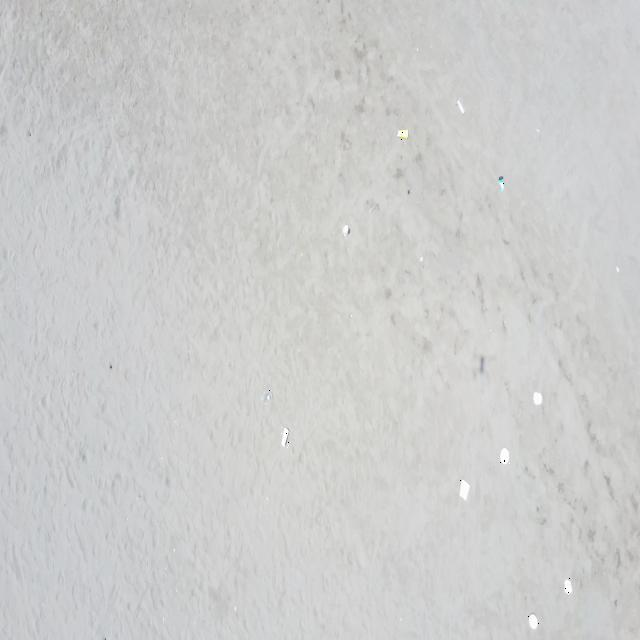take-away-containers: (458, 480, 471, 500), (528, 611, 539, 630), (500, 446, 510, 466), (533, 392, 543, 408), (564, 578, 572, 596)
takeaway-cup: (281, 426, 290, 448), (261, 390, 272, 404), (396, 128, 408, 140), (457, 98, 465, 116), (498, 175, 505, 191), (342, 224, 349, 236)
